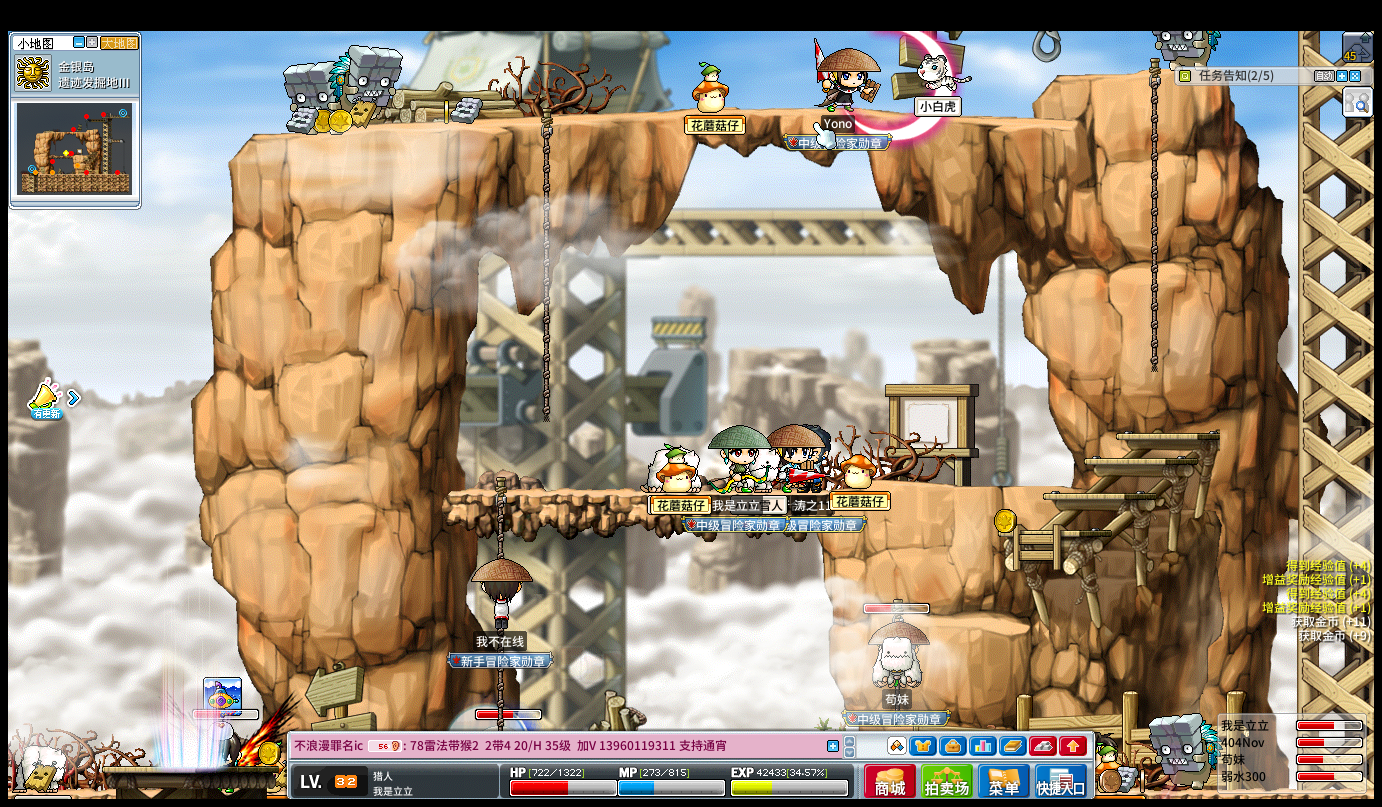floor: (245, 106, 1083, 139), (447, 488, 826, 499), (922, 612, 1028, 634), (1051, 66, 1173, 83), (913, 481, 1082, 492), (1116, 429, 1221, 441), (996, 528, 1110, 537), (1078, 456, 1197, 464), (1043, 492, 1157, 500)
monster: (333, 43, 402, 127), (1148, 713, 1221, 790), (281, 61, 336, 135)
rope: (1148, 58, 1163, 373), (540, 109, 553, 422), (492, 478, 506, 559)
